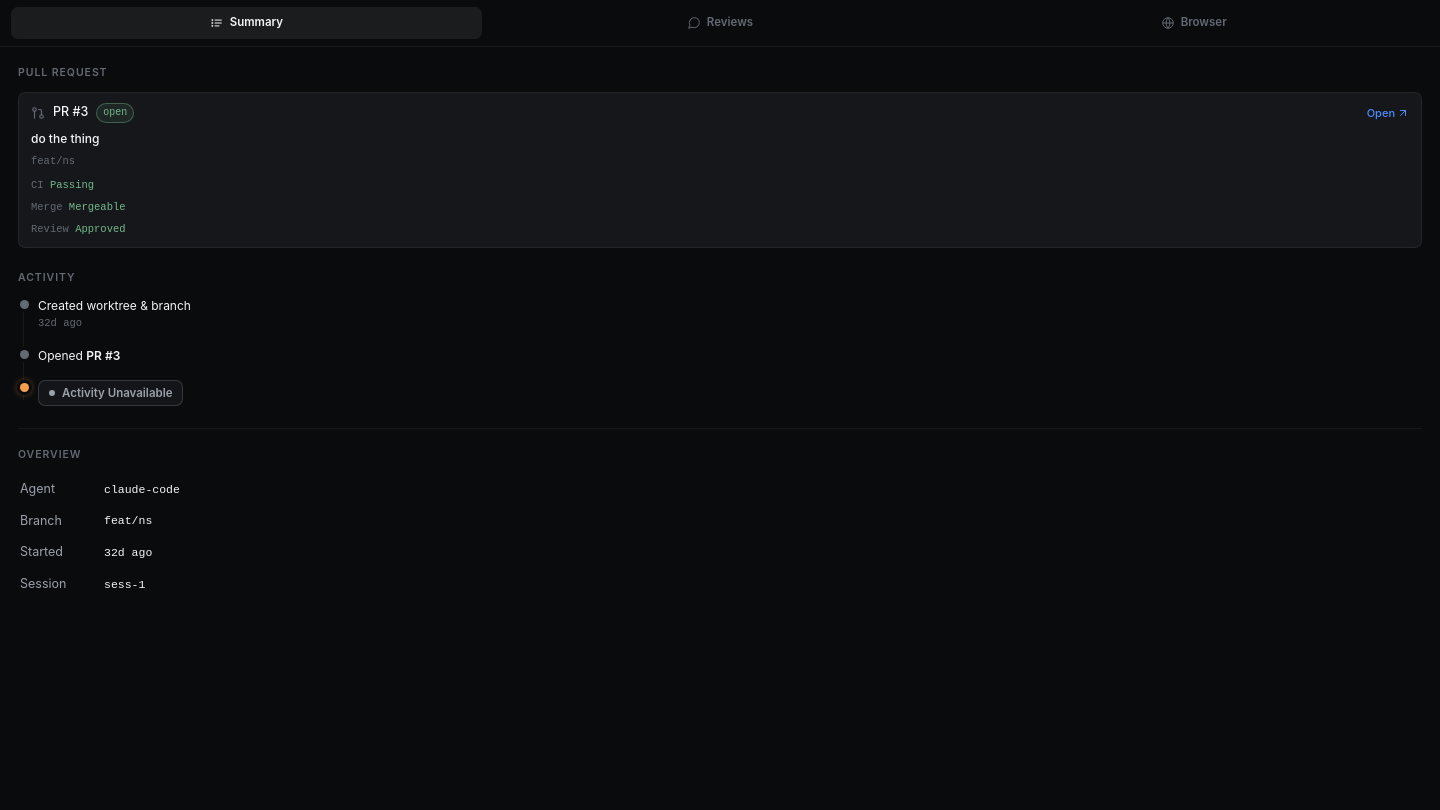
Test: SessionInspector reviews tab › shows the reviewer identity and aggregate verdict
Click the tab "Reviews".
click(720, 23)  # box [485,7,955,39]
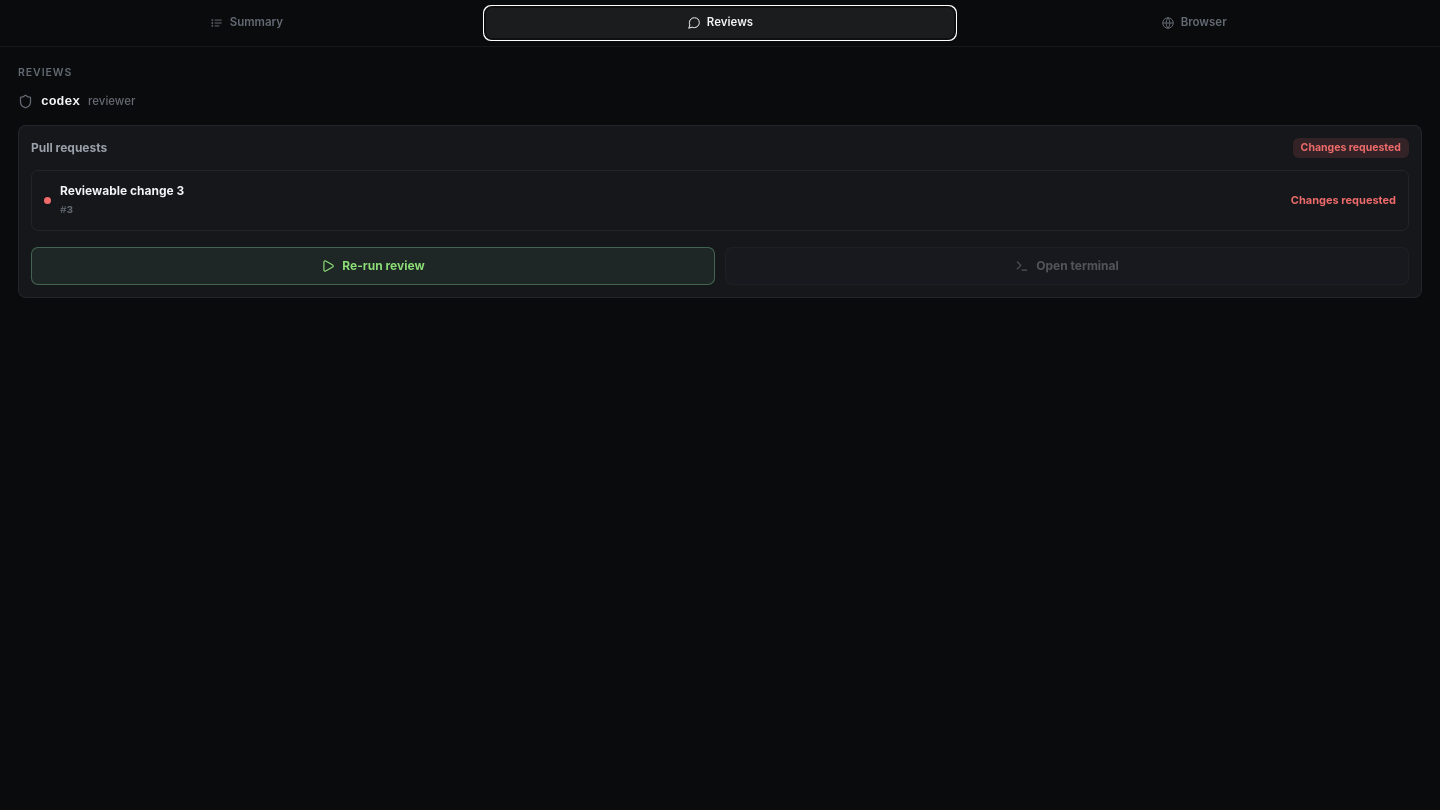
expect the text "sess-1" is not shown: met
expect the text "codex" next to "reviewer" is shown: met, box [41,94,80,109]
expect the text "reviewer" is shown: met, box [88,93,135,110]
